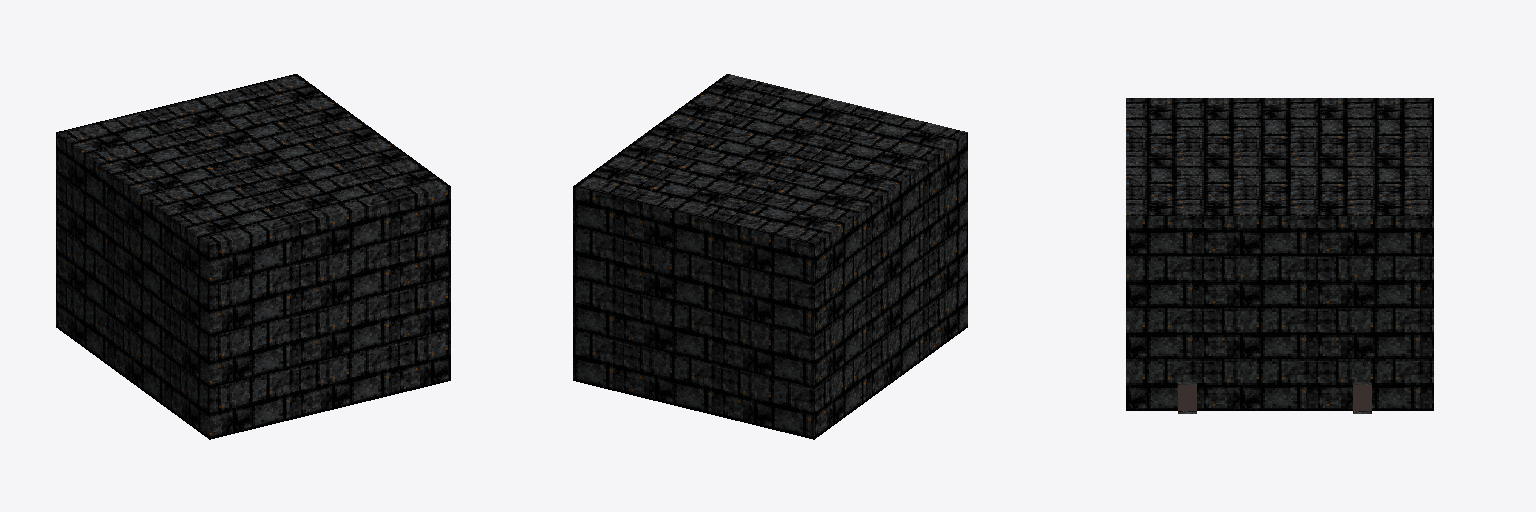
3 renders of one model, left to right at view 1: azimuth 30°, elevation 25°; view 2: azimuth 150°, elevation 25°; view 3: azimuth 270°, elevation 25°, orthographic.
Visible parts, largest first — view 1: Mesh1 Group1 Model; view 2: Mesh1 Group1 Model; view 3: Mesh1 Group1 Model.
Boxes of the visible parts, x1,y1,x2,y2 form: Mesh1 Group1 Model: [56, 74, 450, 439]; Mesh1 Group1 Model: [573, 74, 967, 439]; Mesh1 Group1 Model: [1126, 98, 1433, 413].
Size of the model in its own units: 899 by 678 by 971.
Materials: 3 (1 with a texture image).